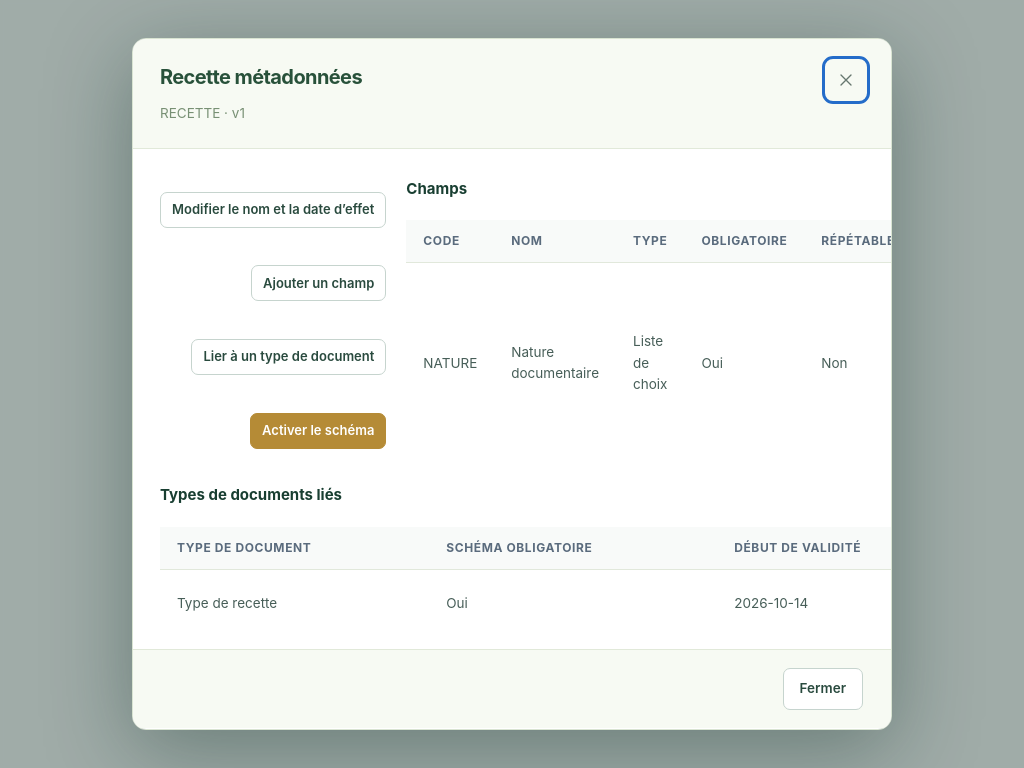
Scenario: conserve la boîte ouverte lorsque le serveur refuse une activation
Expected: the text "Type de recette" is shown, [160,570,429,638]
Click the button "Activer le schéma": (318, 431) [250,413,386,449]
(page scrolled)
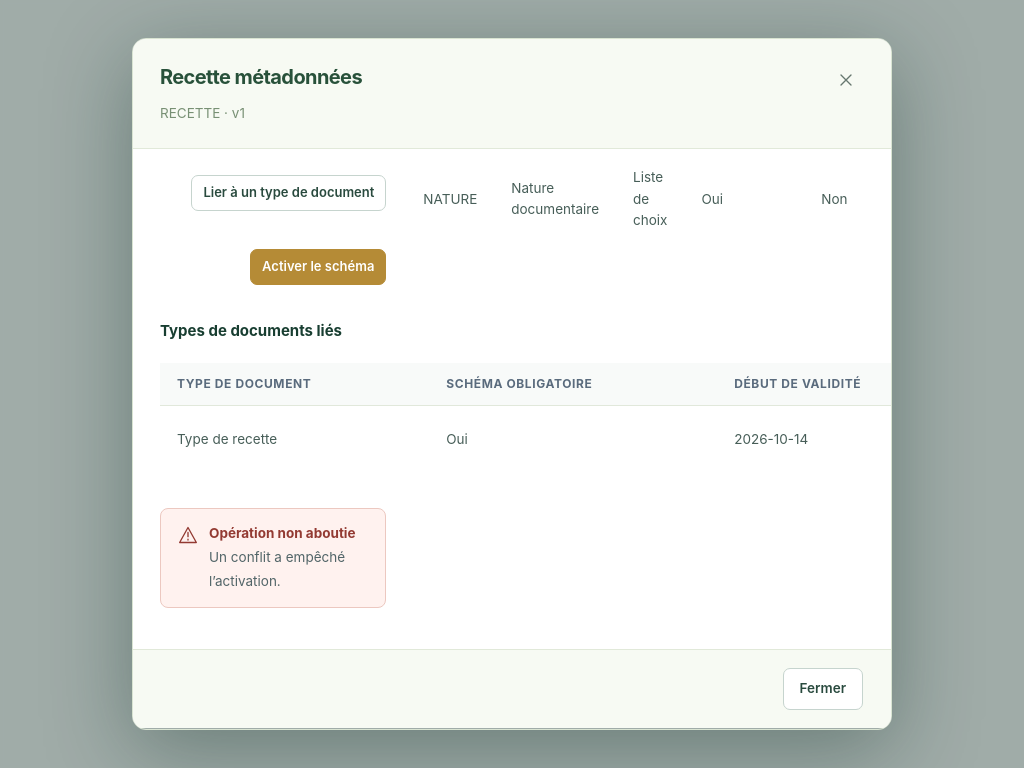
Expected: the message "Opération non aboutie Un conflit a empêché l’activation." is shown, [160,508,386,608]
